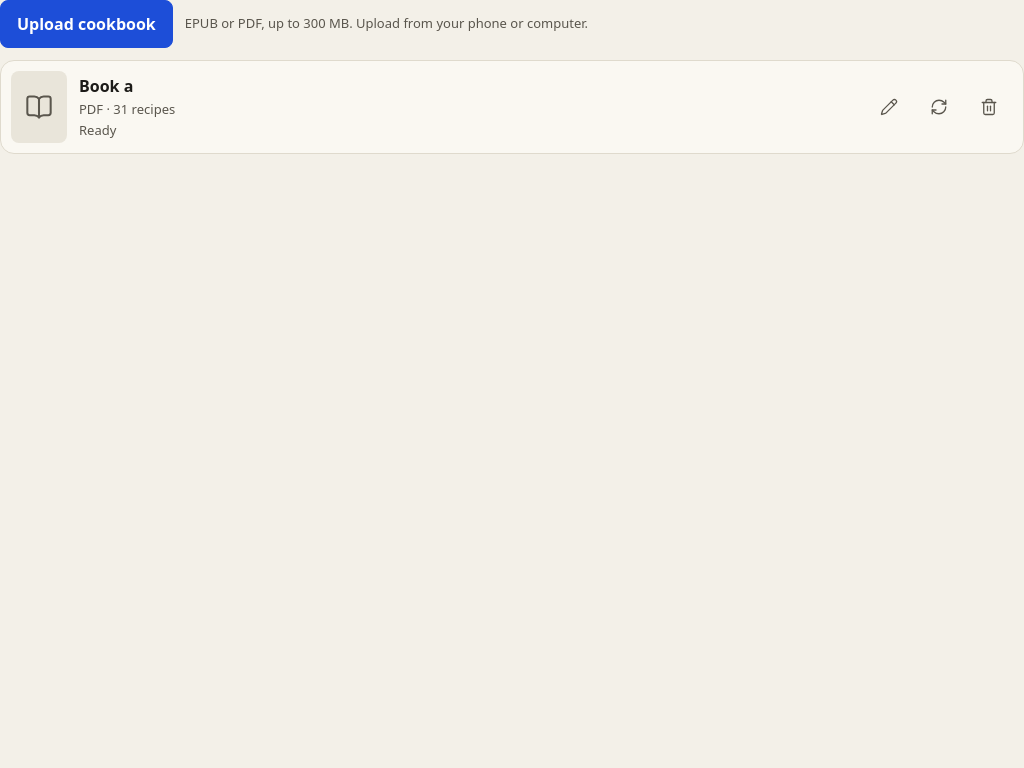
Test case: CookbookList › asks whether to remove the recipes too when deleting
This screenshot has width=1024, height=768.
Click the button named "Delete Book a". click: (989, 107)
box: [965,83,1013,131]
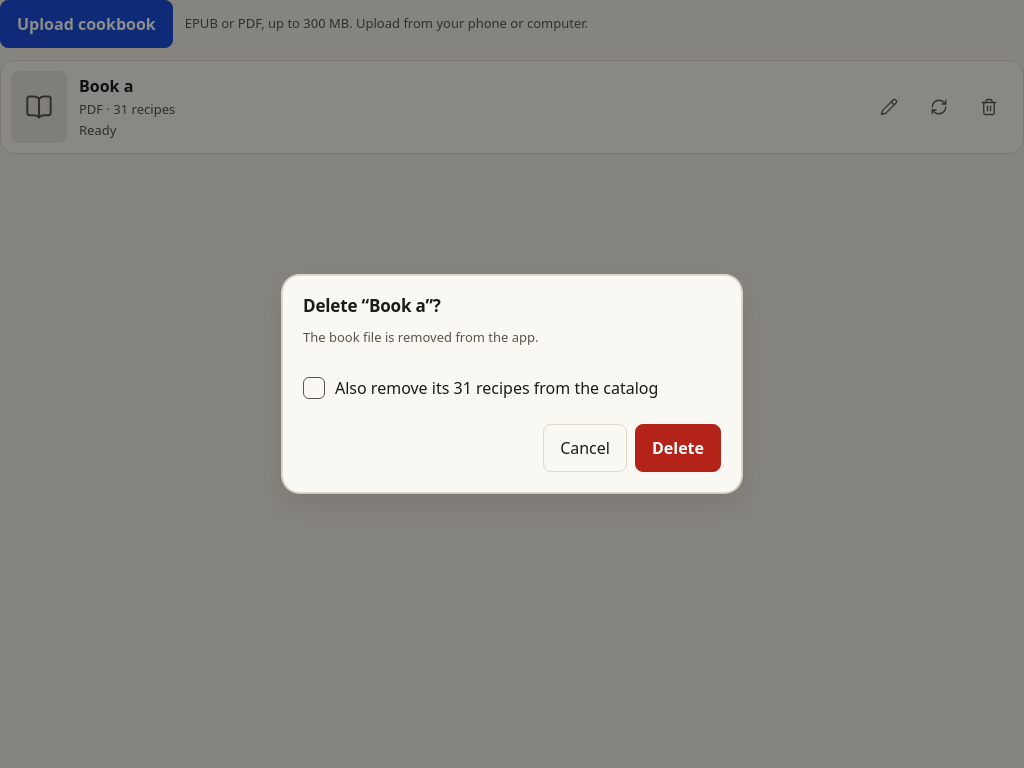
Now the checkbox labelled "Also remove its 31 recipes from the catalog" is not checked
Click the checkbox labelled "Also remove its 31 recipes from the catalog". click: (314, 388)
box: [303,376,325,398]
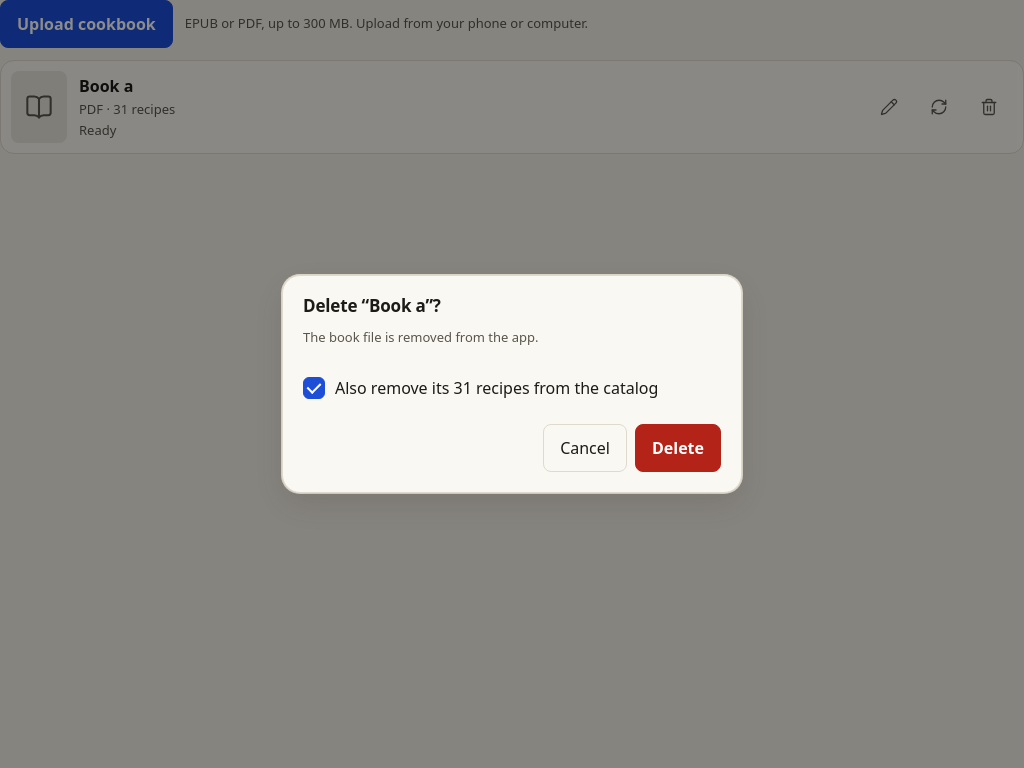
Click the button "Delete". click: (678, 448)
box: [635,424,721,472]
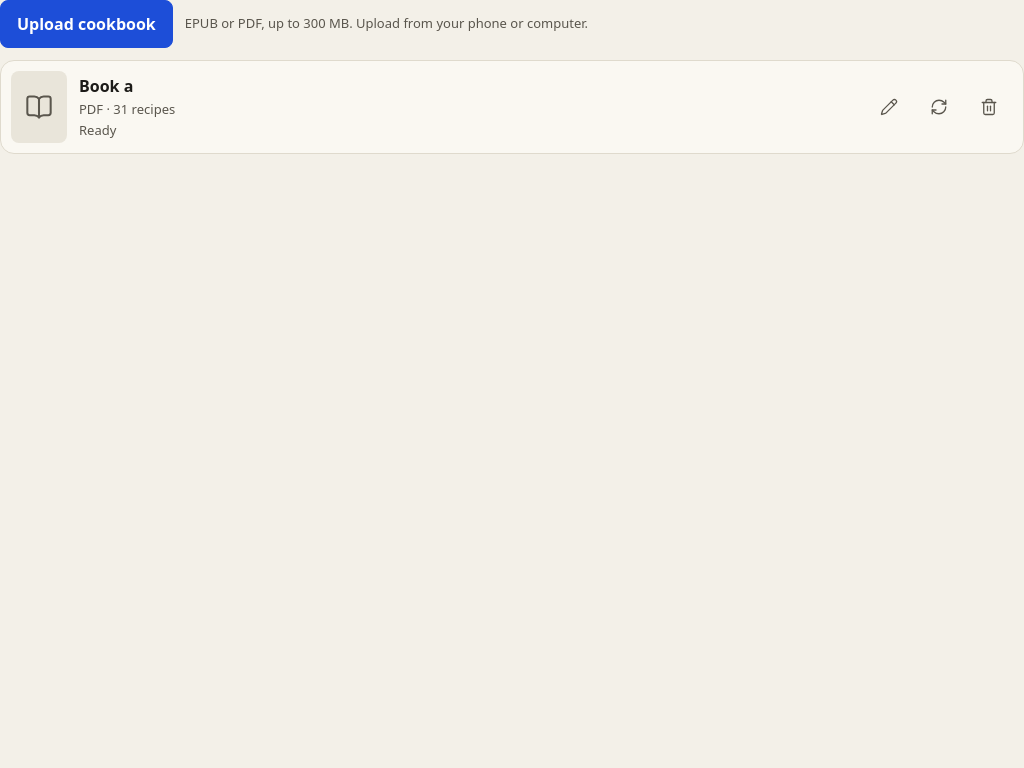
Now the dialog is gone
